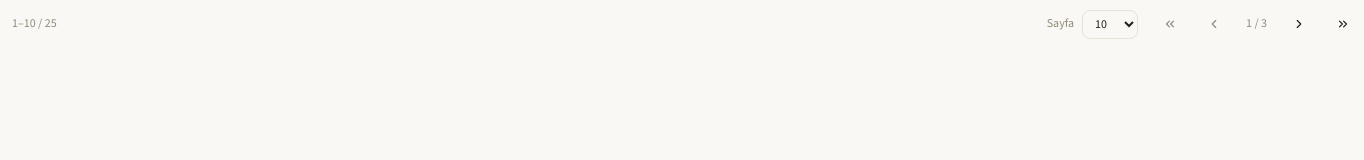
Test: DataTablePagination › changes pageSize via the select and resets the row range accordingly
Check: the text "1 / 3" is shown, box [1246,15,1267,32]
Select "50" in the dropdown at (1110, 24), box [1082,10,1138,38]
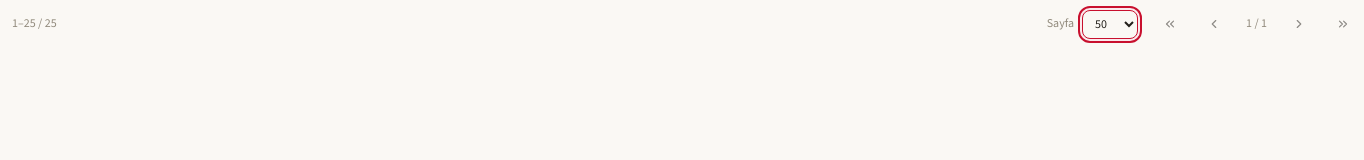
Check: the text "1 / 1" is shown, box [1246,15,1267,32]
Check: the text "1–25 / 25" is shown, box [12,16,57,32]
